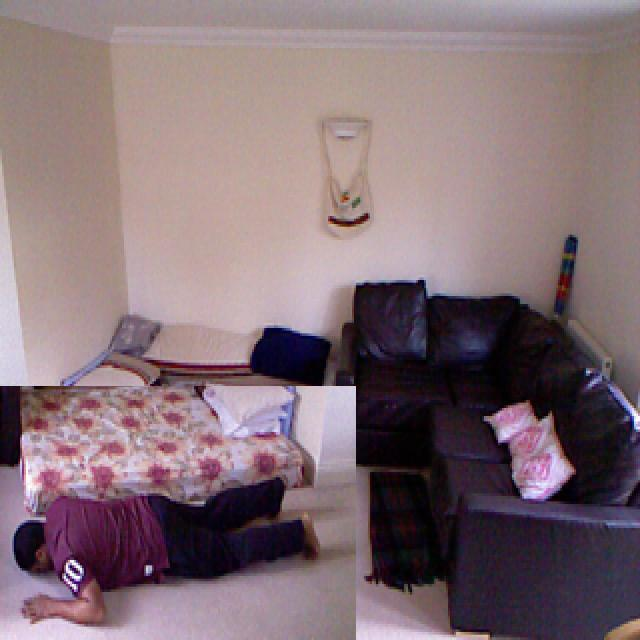Fall: (2, 389, 340, 640)
